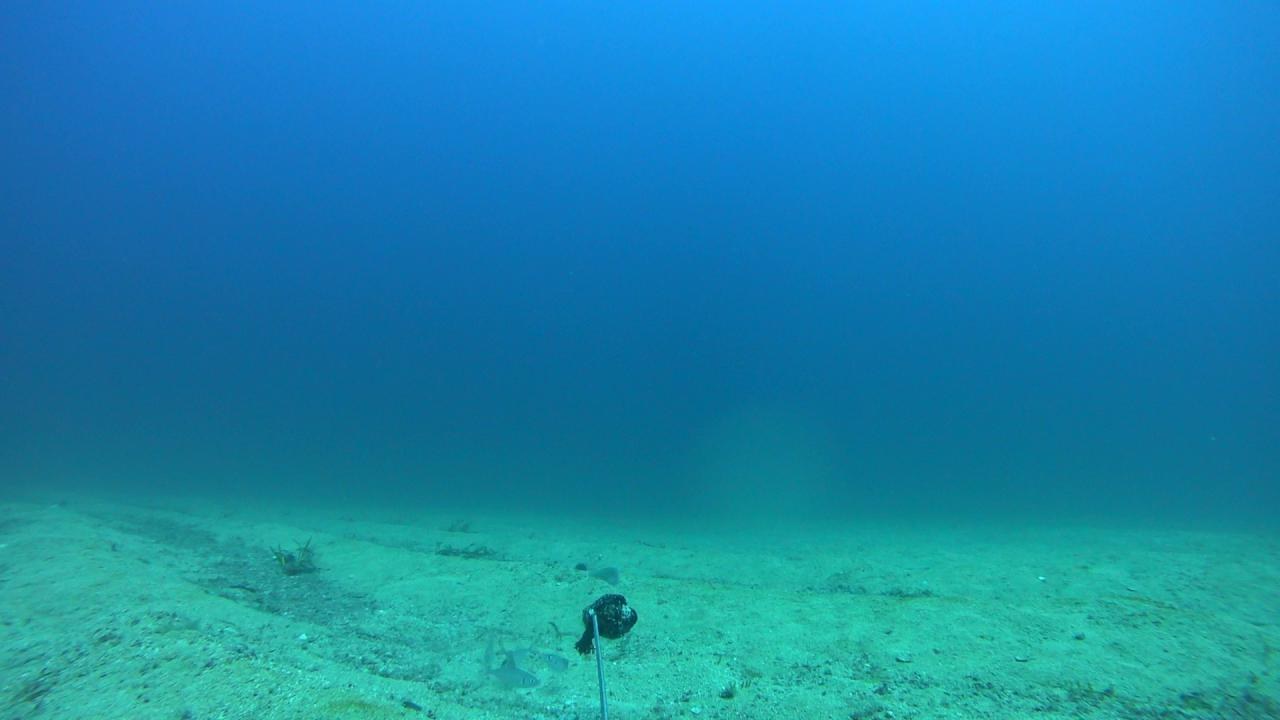pagellus: (481, 660, 535, 690)
